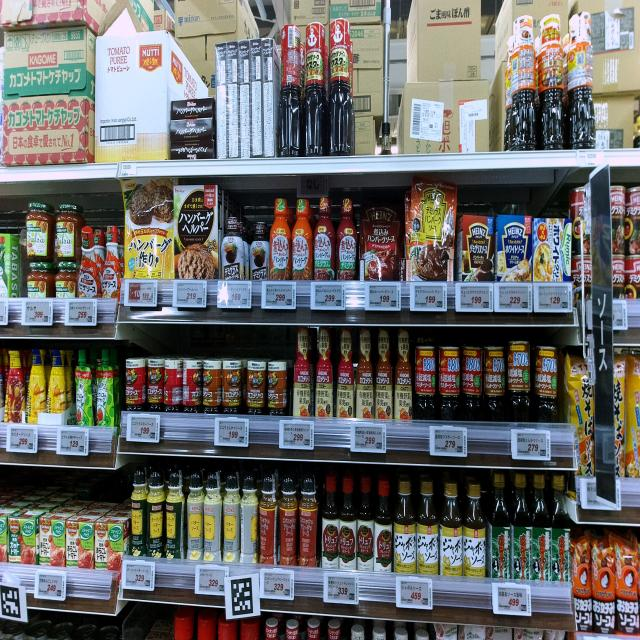objects: (492, 582, 532, 617), (511, 428, 551, 461), (396, 577, 434, 610), (323, 571, 359, 605), (365, 280, 402, 313), (429, 425, 468, 456), (351, 422, 387, 454), (410, 283, 448, 313), (534, 284, 573, 313), (494, 284, 532, 313), (456, 284, 495, 312), (279, 420, 314, 450), (260, 569, 295, 599), (311, 282, 347, 311), (196, 565, 230, 595), (122, 560, 155, 590), (125, 279, 159, 308), (214, 418, 249, 446), (218, 283, 254, 310), (34, 569, 66, 599), (261, 284, 296, 310), (128, 415, 160, 443), (174, 282, 208, 308), (57, 428, 88, 456), (64, 301, 98, 326), (7, 426, 38, 453), (22, 300, 54, 324), (0, 302, 8, 324)
